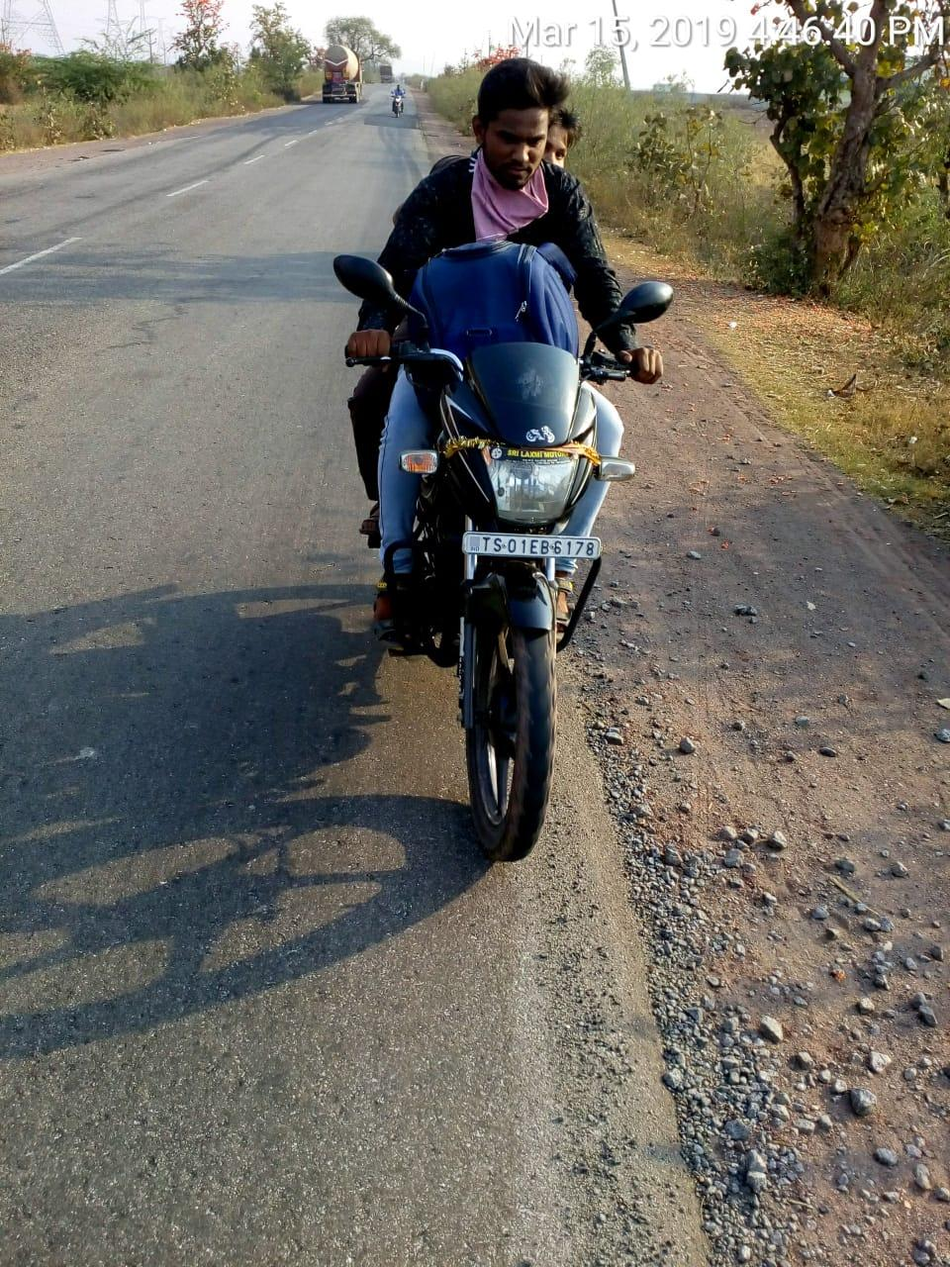plate: (454, 525, 608, 568)
